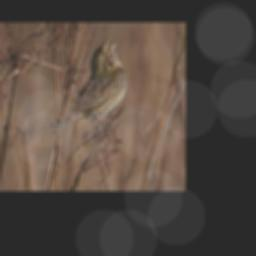Sparrow: (41, 36, 129, 137)
